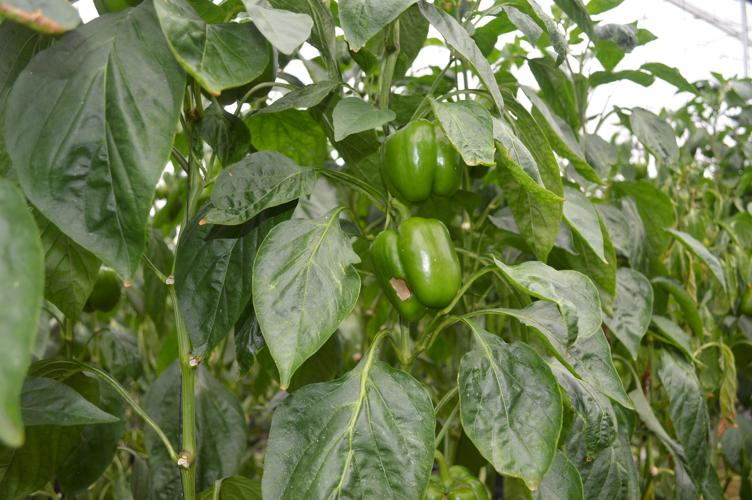BellPepper: (371, 217, 462, 318), (388, 119, 465, 201)
